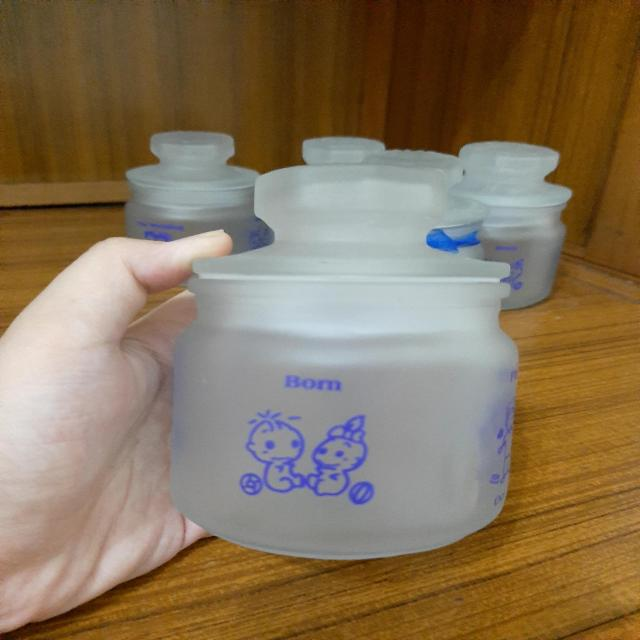ToplesKaca: (173, 164, 519, 564)
